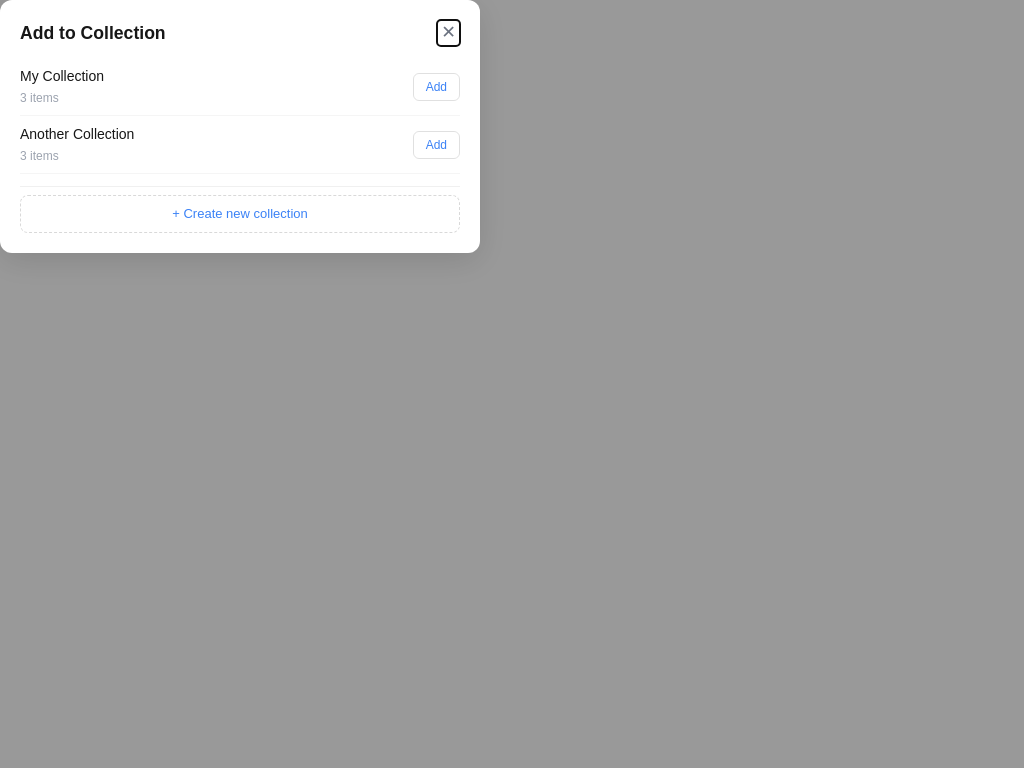
CollectionPickerDialog › creates a new collection
Expected: the text "My Collection" is shown, [20,66,104,87]
Click the button "+ Create new collection": (240, 214) [20,195,460,233]
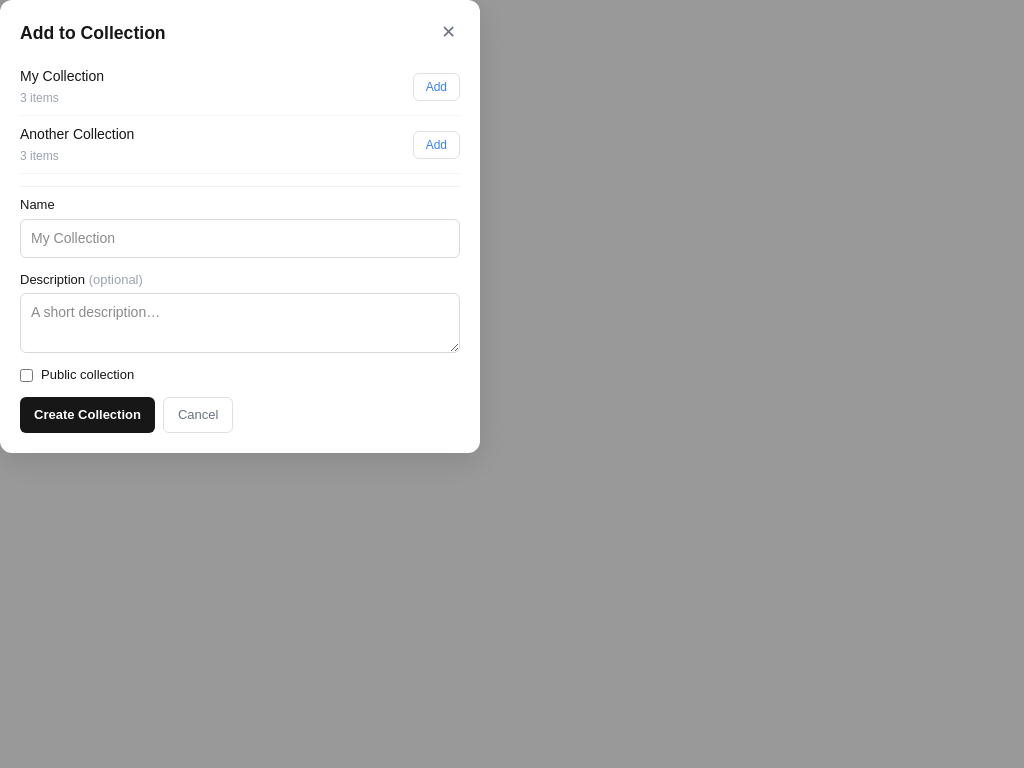
In the field labelled "Name": (240, 238) [20,219,460,258], type "New Collection"
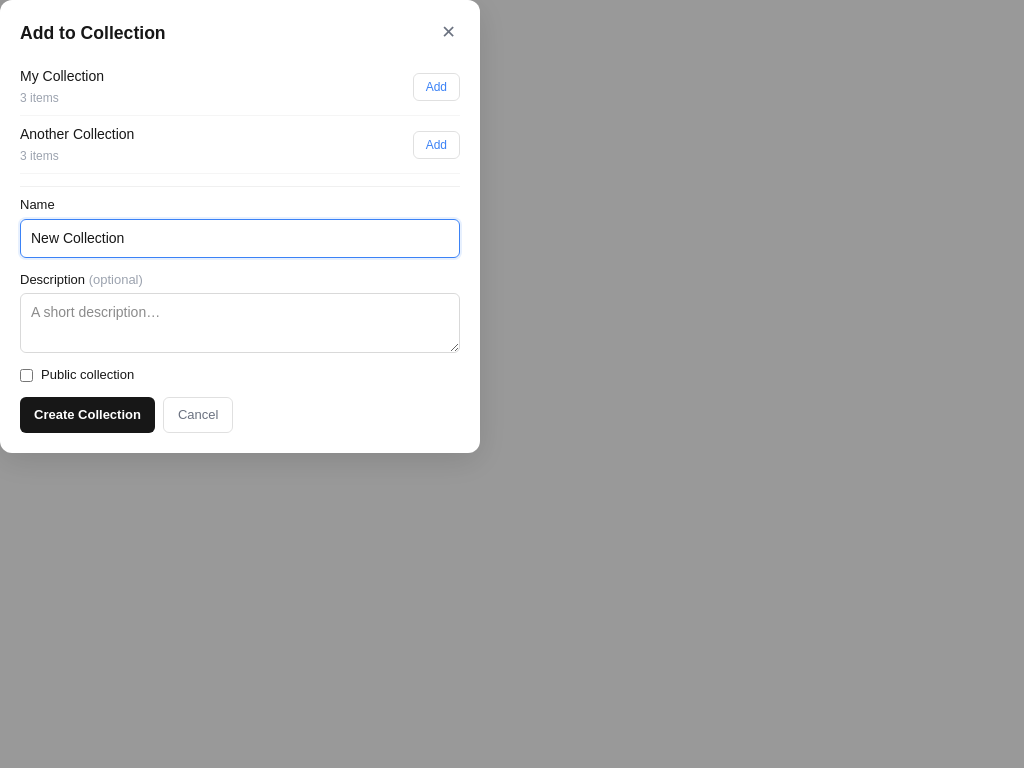
Click the button "Create Collection": (87, 415) [20,397,155,433]
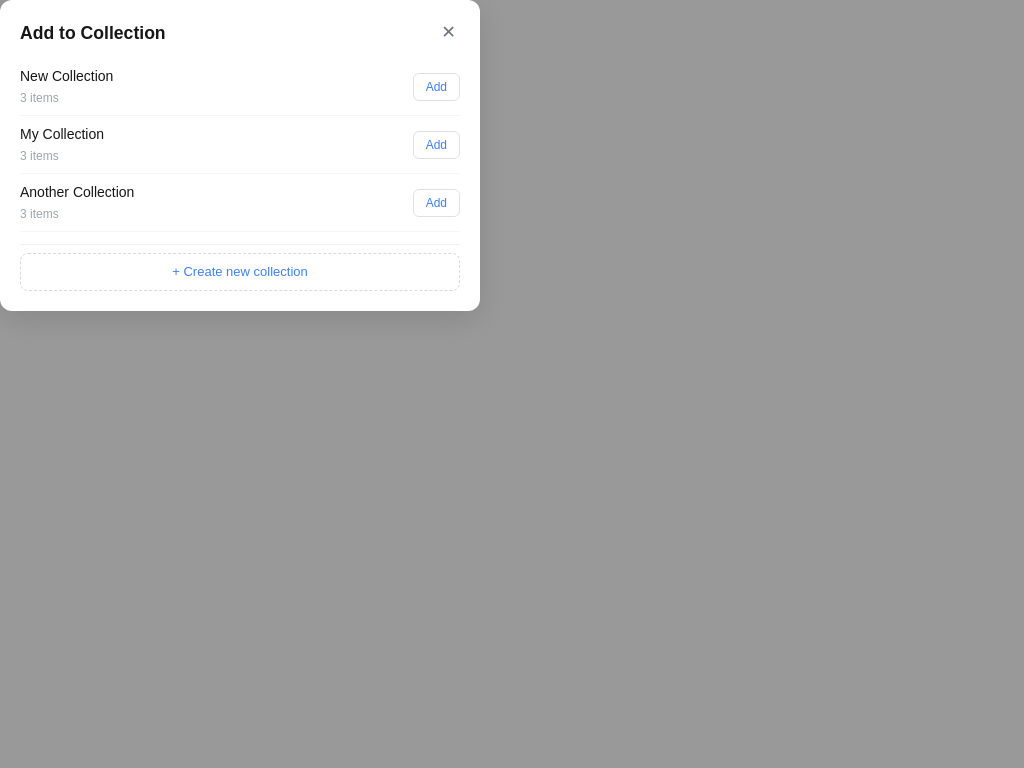
Expected: the text "New Collection" is shown, [20,66,113,87]
